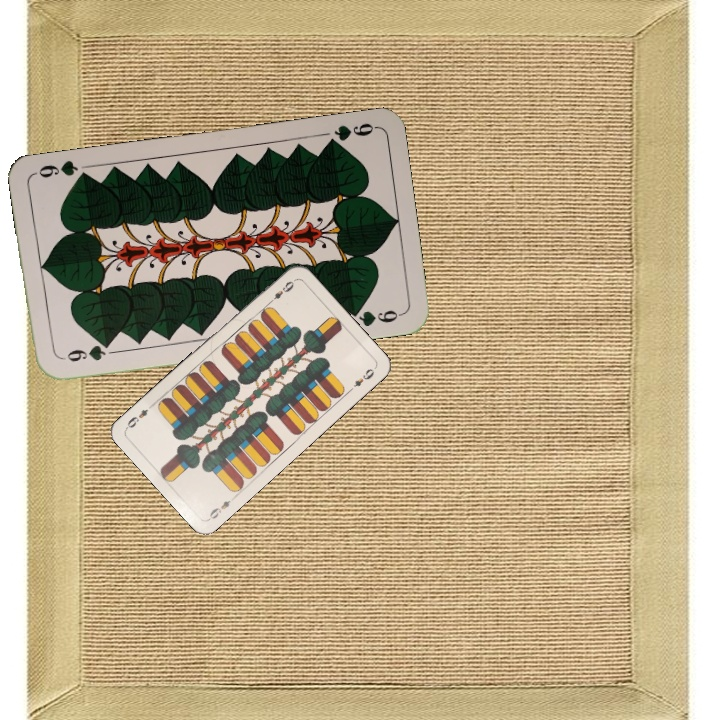E9: (264, 276, 298, 307), (205, 492, 238, 522)
G9: (321, 119, 379, 149), (57, 339, 114, 364)
